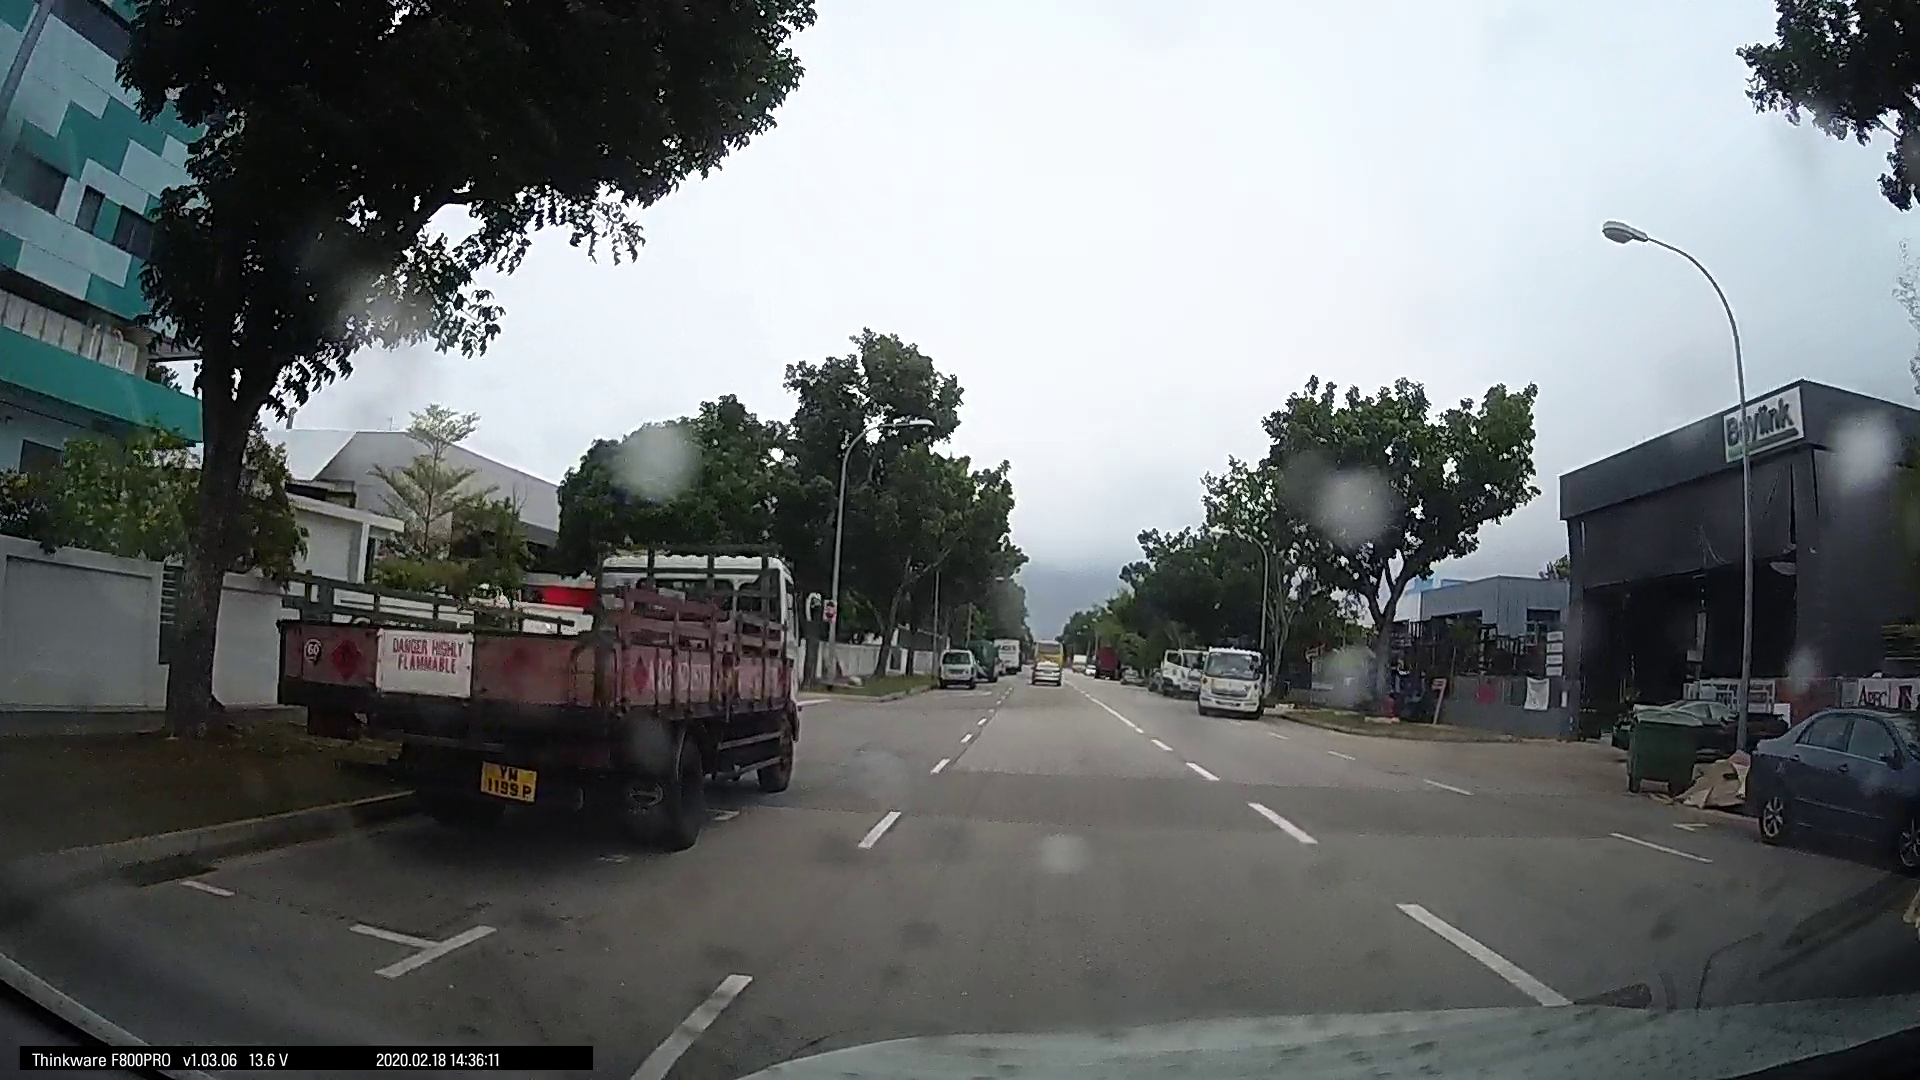Heavy Vehicle: (305, 526, 827, 829)
Light Vehicle: (1746, 700, 1915, 858), (1189, 642, 1266, 717), (931, 641, 985, 688), (1154, 649, 1199, 696), (1022, 644, 1062, 683)
